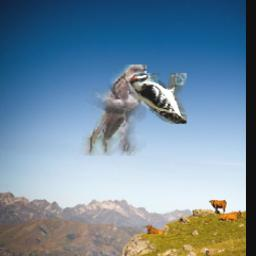Cuckoo: (80, 65, 148, 156)
Woodpecker: (131, 73, 188, 124)
